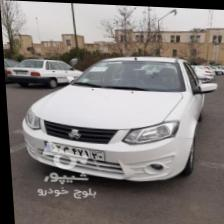plate: (42, 140, 102, 159)
